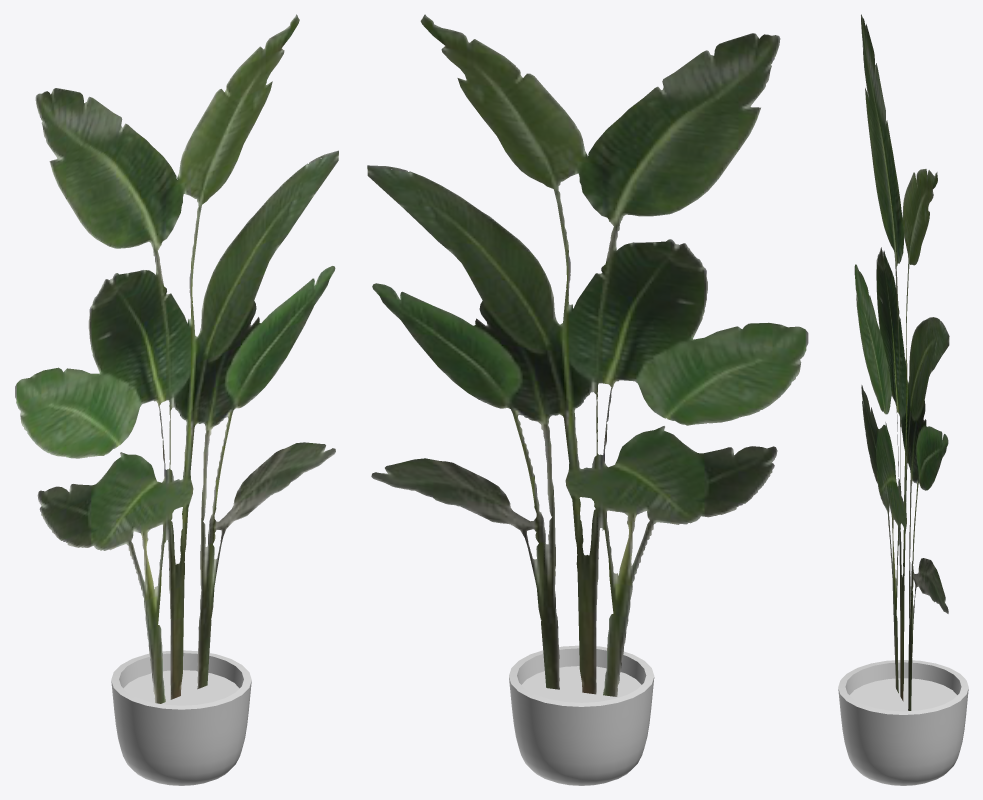
The model's file is floor_plant_bop.glb.
3 renders of one model, left to right at view 1: azimuth 30°, elevation 25°; view 2: azimuth 150°, elevation 25°; view 3: azimuth 270°, elevation 25°, orthographic. The views are drawn at different scales.
Visible parts, largest first — view 1: Geom3D, Geom3D_Ceramic, Geom3D_Soil; view 2: Geom3D, Geom3D_Ceramic, Geom3D_Soil; view 3: Geom3D, Geom3D_Ceramic, Geom3D_Soil.
Boxes of the visible parts, x1,y1,x2,y2 form: Geom3D: (15, 14, 338, 703); Geom3D_Ceramic: (111, 650, 251, 785); Geom3D_Soil: (123, 670, 239, 705); Geom3D: (367, 14, 808, 696); Geom3D_Ceramic: (509, 645, 654, 785); Geom3D_Soil: (522, 666, 641, 702); Geom3D: (854, 14, 949, 710); Geom3D_Ceramic: (838, 660, 968, 785); Geom3D_Soil: (849, 678, 957, 711).
Size of the model in its own units: 0.7063 by 1.32 by 0.2287.
1 material, 1 textured.
